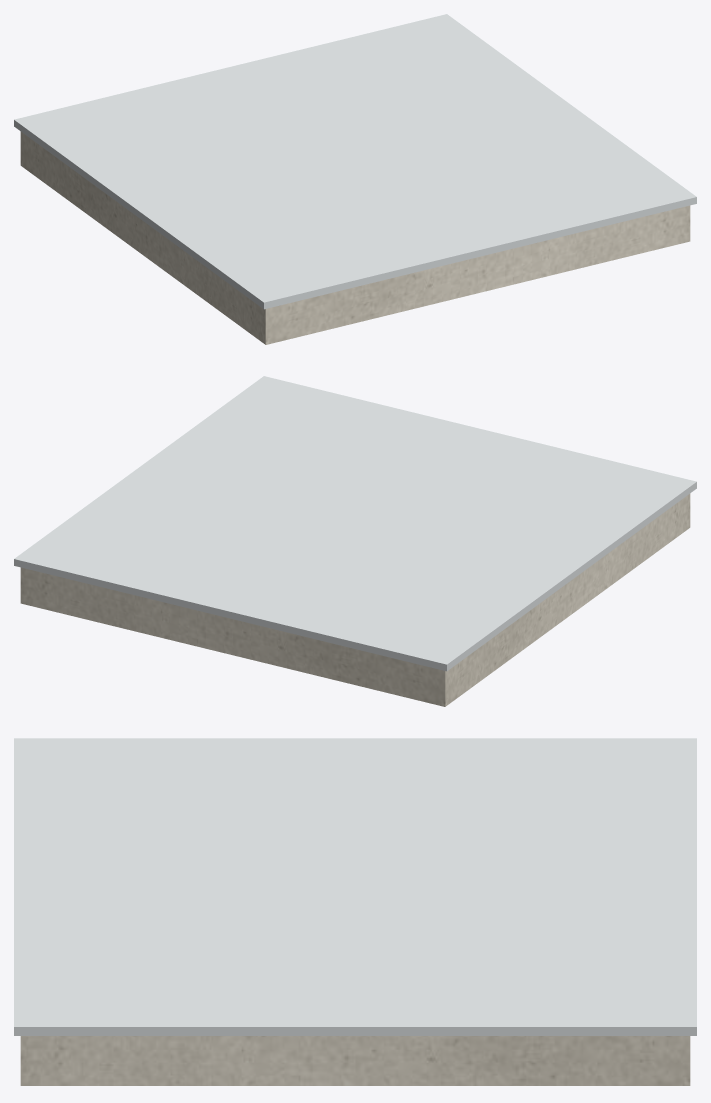
Rendered from floor_tile_bath.glb.
3 renders of one model, top to bottom at view 1: azimuth 30°, elevation 25°; view 2: azimuth 150°, elevation 25°; view 3: azimuth 270°, elevation 25°, orthographic. The views are drawn at different scales.
Visible parts, largest first — view 1: floor_tile_bath_tile, floor_tile_bath_plaster; view 2: floor_tile_bath_tile, floor_tile_bath_plaster; view 3: floor_tile_bath_tile, floor_tile_bath_plaster.
Part boxes in pixels (<box>): floor_tile_bath_tile: <box>14,14,696,309</box>; floor_tile_bath_plaster: <box>20,131,690,344</box>; floor_tile_bath_tile: <box>14,376,696,671</box>; floor_tile_bath_plaster: <box>20,493,690,706</box>; floor_tile_bath_tile: <box>14,738,696,1035</box>; floor_tile_bath_plaster: <box>20,1036,690,1085</box>.
Bounding box in the file's own units: 2 × 0.2 × 2.
Materials: 2 (1 with a texture image).
